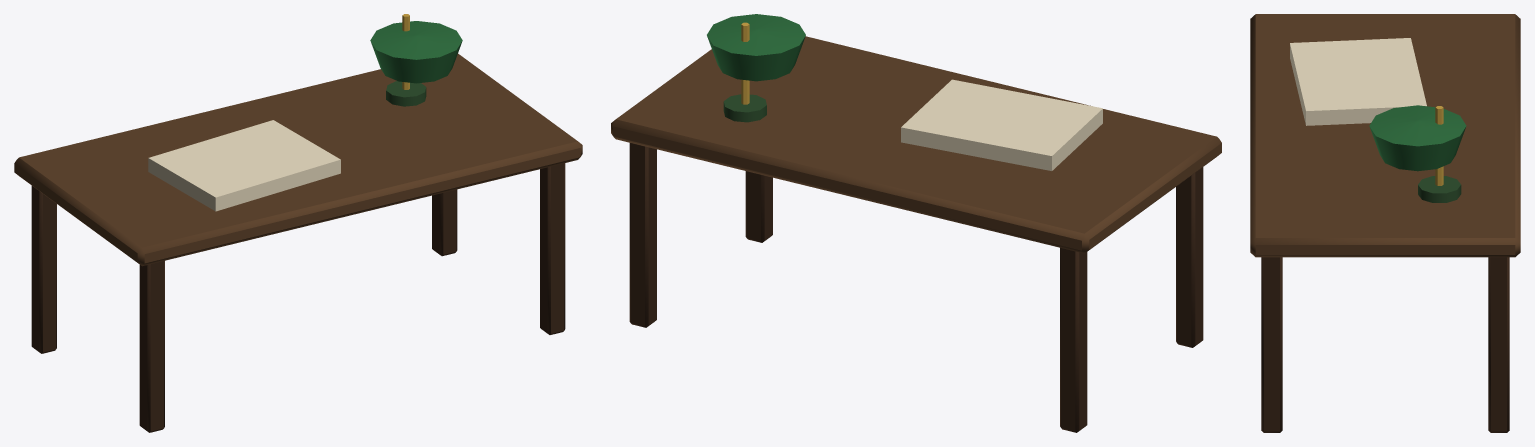
Rendered from reading_desk.glb.
3 views of the same model, side by side, from view 1: azimuth 30°, elevation 25°; view 2: azimuth 150°, elevation 25°; view 3: azimuth 270°, elevation 25° (orthographic). The views are drawn at different scales.
Parts seen in each view (by area): view 1: reading_desk; view 2: reading_desk; view 3: reading_desk.
Boxes of the visible parts, x1,y1,x2,y2 form: reading_desk: [14, 14, 582, 432]; reading_desk: [611, 14, 1221, 432]; reading_desk: [1250, 14, 1520, 432].
Size of the model in its own units: 2 by 1.17 by 1.
